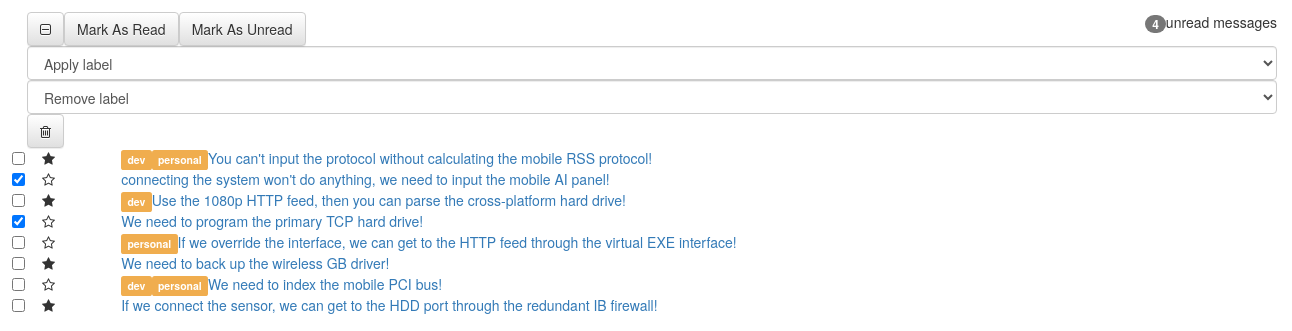
Scenario: landing page › Delete Button › should delete a selected message
Step 1. Double-click the button with id "selectAllButton" → (46, 29), box left=27, top=12, right=64, bottom=46
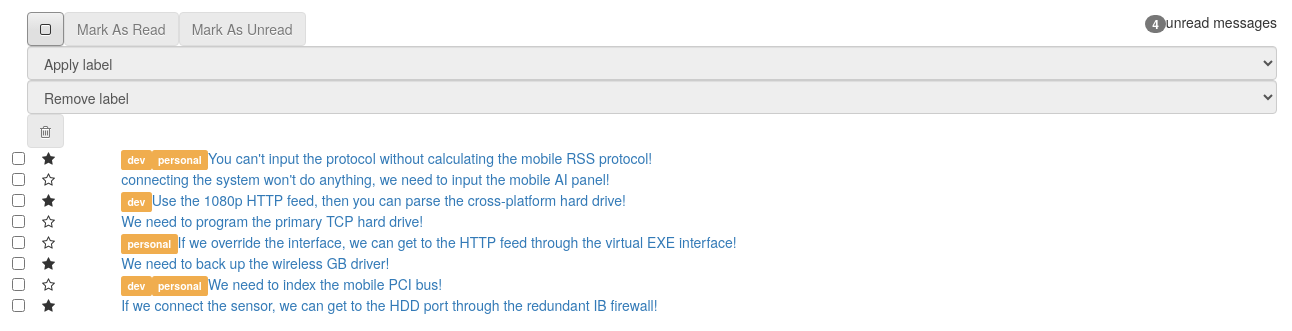
Step 2. Click the 3rd checkbox → (19, 201), box left=12, top=194, right=25, bottom=207
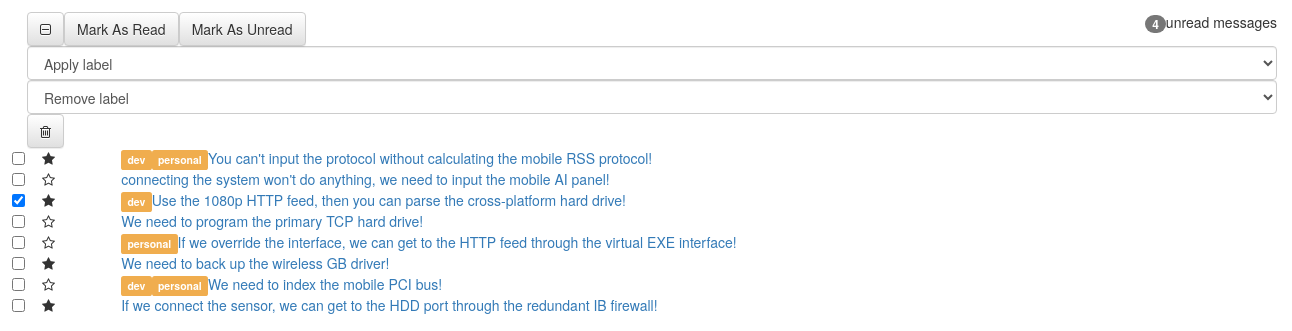
Step 3. Click the button with id "deleteButton" → (46, 131), box left=27, top=114, right=64, bottom=148
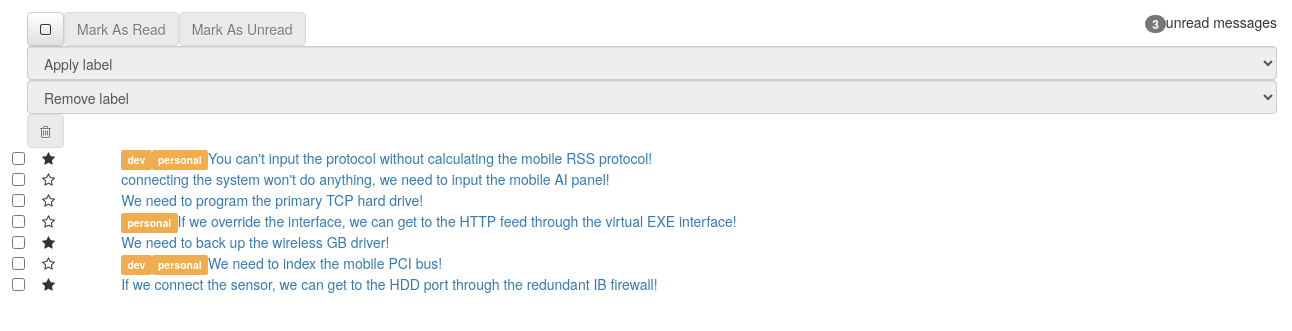
Check: the element with id "msg3" is gone
